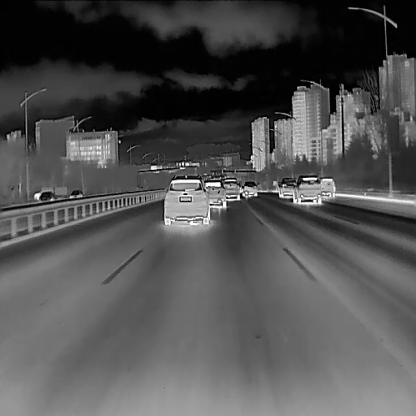bus: (277, 178, 292, 198)
car: (162, 173, 210, 226), (292, 175, 322, 204), (204, 181, 225, 208), (223, 176, 240, 201), (320, 177, 336, 198), (242, 180, 256, 198), (36, 189, 54, 200), (67, 188, 83, 197)
